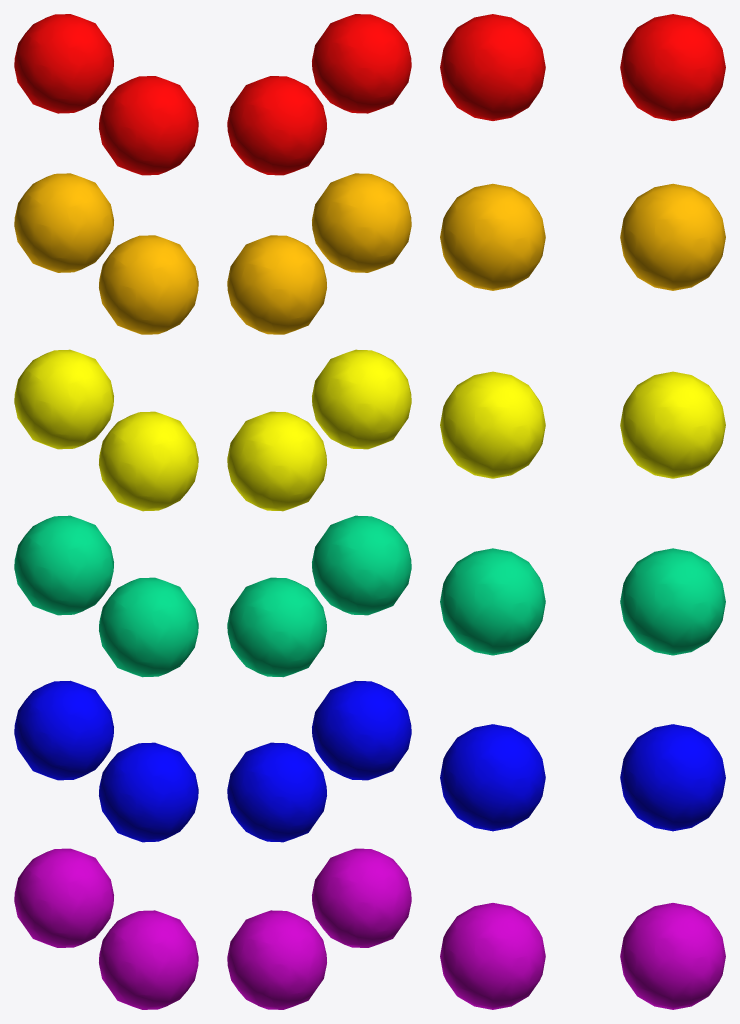
File: simple_008_MaterialAttribute-Color_00.dae
3 views of the same model, side by side, from view 1: azimuth 30°, elevation 25°; view 2: azimuth 150°, elevation 25°; view 3: azimuth 270°, elevation 25° (orthographic). The views are drawn at different scales.
Visible parts, largest first — view 1: pCube2, pCube12, pCube1, pCube6, pCube7, pCube8, pCube3, pCube5, pCube9, pCube10, pCube4, pCube11; view 2: pCube8, pCube2, pCube7, pCube1, pCube6, pCube12, pCube3, pCube11, pCube4, pCube9, pCube5, pCube10; view 3: pCube4, pCube10, pCube3, pCube9, pCube2, pCube5, pCube8, pCube11, pCube1, pCube6, pCube7, pCube12.
Part boxes in pixels (x1,y1,x2,y2): pCube2: (99,235,198,334); pCube12: (14,848,113,947); pCube1: (99,76,198,175); pCube6: (99,910,198,1009); pCube7: (14,14,113,113); pCube8: (14,173,113,272); pCube3: (99,411,198,511); pCube5: (99,742,198,842); pCube9: (14,349,113,449); pCube10: (14,515,113,615); pCube4: (99,577,198,677); pCube11: (14,680,113,780); pCube8: (227,235,326,334); pCube2: (312,173,411,272); pCube7: (227,76,326,175); pCube1: (312,14,411,113); pCube6: (312,848,411,947); pCube12: (227,910,326,1009); pCube3: (312,349,411,449); pCube11: (227,742,326,842); pCube4: (312,515,411,615); pCube9: (227,411,326,511); pCube5: (312,680,411,780); pCube10: (227,577,326,677); pCube4: (440,548,545,655); pCube10: (620,548,725,655); pCube3: (440,371,545,478); pCube9: (620,371,725,478); pCube2: (440,183,545,290); pCube5: (440,724,545,831); pCube8: (620,183,725,290); pCube11: (620,724,725,831); pCube1: (440,14,545,120); pCube6: (440,903,545,1009); pCube7: (620,14,725,120); pCube12: (620,903,725,1009).
Size of the model in its own units: 1.15 by 3.1 by 11.77.
